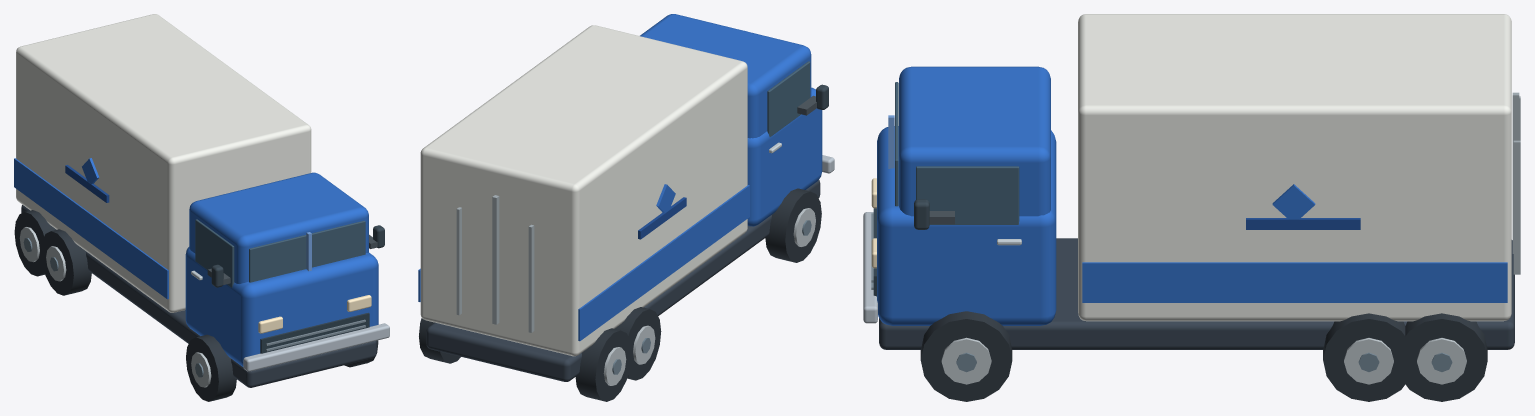
The model's file is truck-0-blue.glb.
The picture shows the model from 3 angles, left to right: view 1: azimuth 30°, elevation 25°; view 2: azimuth 150°, elevation 25°; view 3: azimuth 270°, elevation 25°; orthographic projection. The views are drawn at different scales.
Visible parts, largest first — view 1: truck-0, static-17--48, static-17--43, static-17--32, static-17--27, static-17--37, static-17--38, static-17--39, static-17--35; view 2: truck-0, static-17--48, static-17--32, static-17--34, static-17--43, static-17--27, static-17--35, static-17--22; view 3: truck-0, static-17--48, static-17--32, static-17--43, static-17--27, static-17--34, static-17--35, static-17--22.
Boxes of the visible parts, <box> form: truck-0: <box>16,14,389,387</box>; static-17--48: <box>14,158,378,366</box>; static-17--43: <box>195,219,365,287</box>; static-17--32: <box>14,210,378,401</box>; static-17--27: <box>19,227,211,387</box>; static-17--37: <box>266,319,365,351</box>; static-17--38: <box>258,295,371,333</box>; static-17--39: <box>211,225,384,287</box>; static-17--35: <box>65,165,109,202</box>; truck-0: <box>420,25,834,381</box>; static-17--48: <box>418,14,822,341</box>; static-17--32: <box>419,188,821,401</box>; static-17--34: <box>456,195,534,332</box>; static-17--43: <box>767,61,810,136</box>; static-17--27: <box>603,208,815,385</box>; static-17--35: <box>638,197,686,239</box>; static-17--22: <box>612,220,811,374</box>; truck-0: <box>863,14,1514,349</box>; static-17--48: <box>877,66,1507,325</box>; static-17--32: <box>920,311,1487,401</box>; static-17--43: <box>895,82,1019,224</box>; static-17--27: <box>941,337,1466,384</box>; static-17--34: <box>1512,92,1520,274</box>; static-17--35: <box>1246,218,1360,229</box>; static-17--22: <box>956,352,1452,372</box>.
Bounding box in the file's own units: 2.61 × 3.05 × 6.3.
